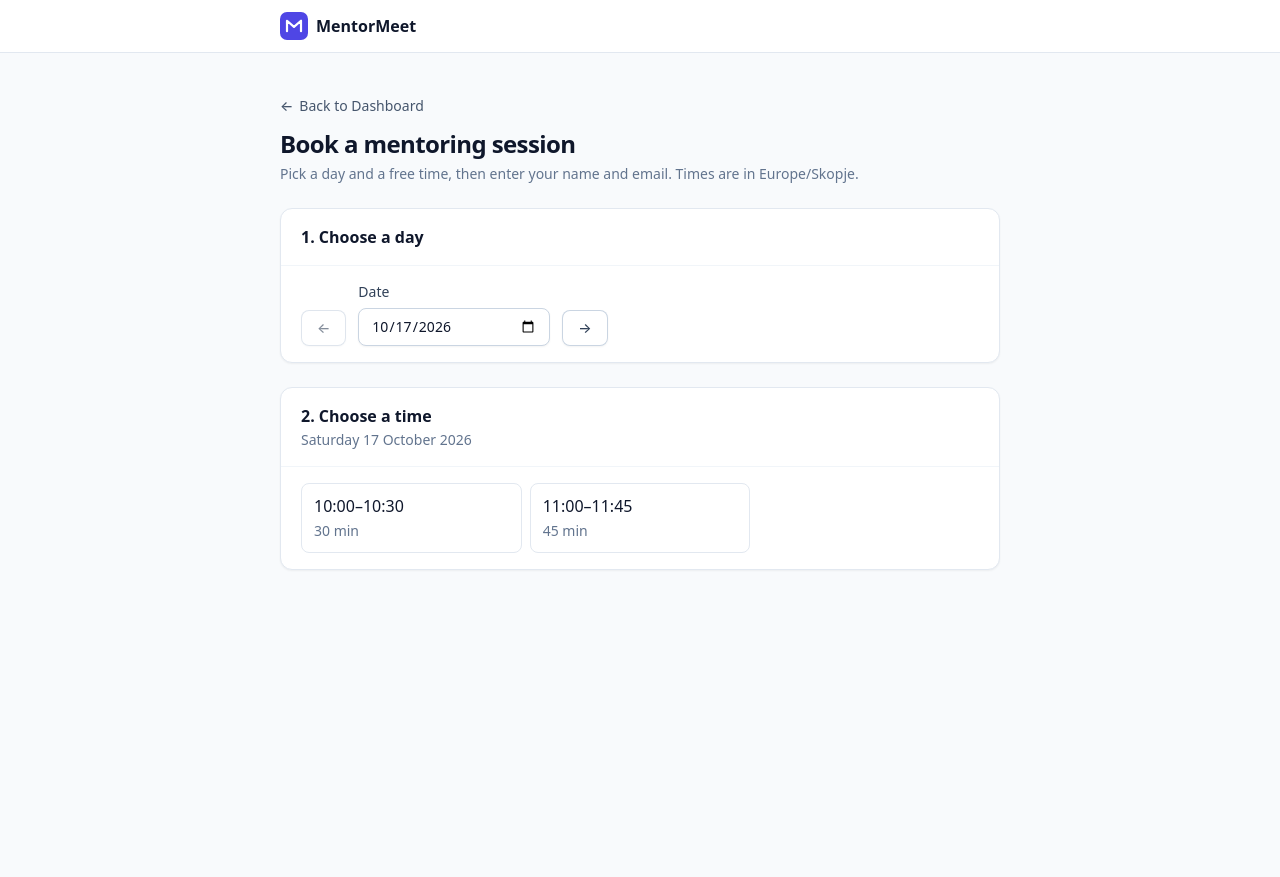
Test: BookingPage › on 409 Conflict refreshes the list, removes the taken slot and explains what happened
Click the button "10:00–10:30 30 min" at x=411, y=518, box [301,483,522,553]
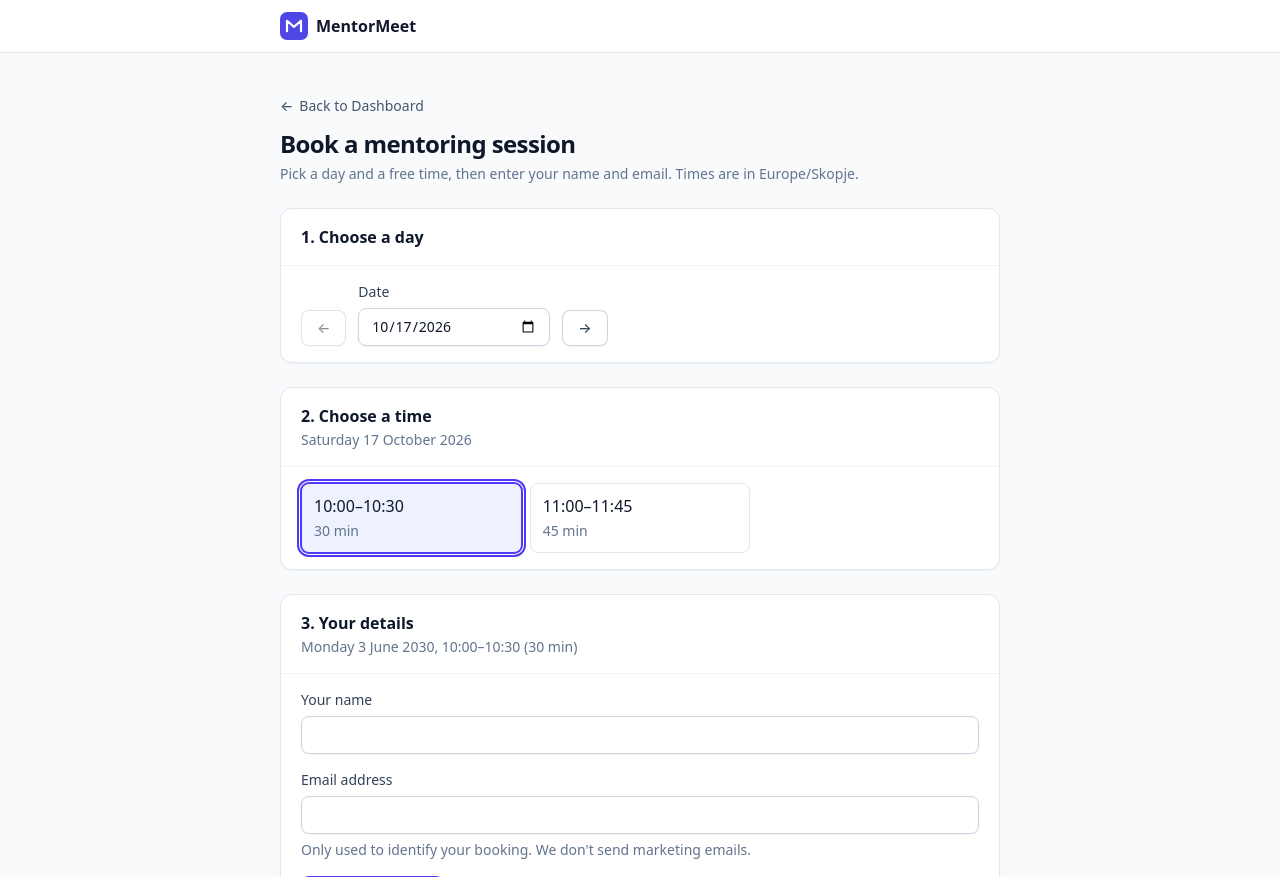
Type "Ana Petrova" into the field labelled "Your name" at x=640, y=735, box [301,716,979,754]
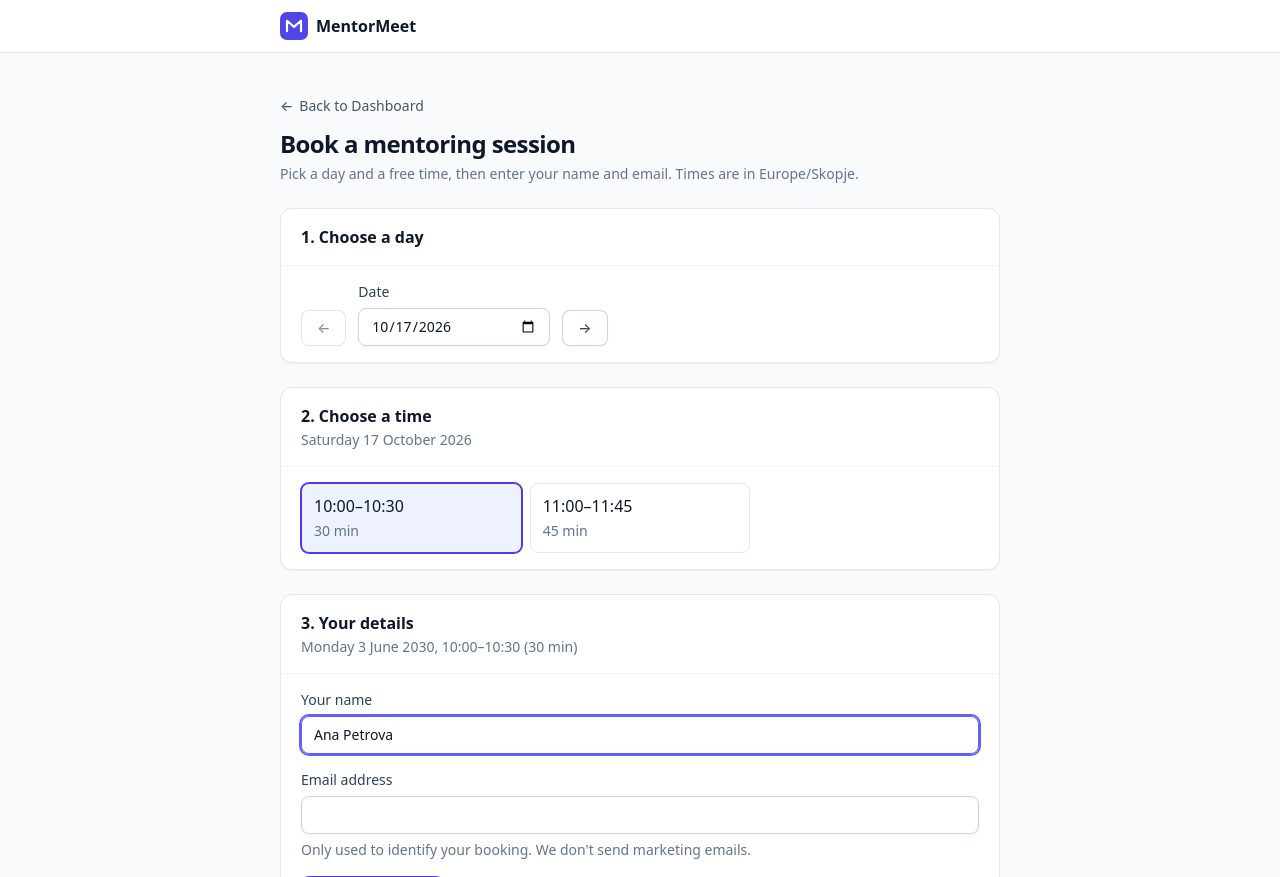
Type "ana@example.com" into the field labelled "Email address" at x=640, y=815, box [301,796,979,834]
(page scrolled)
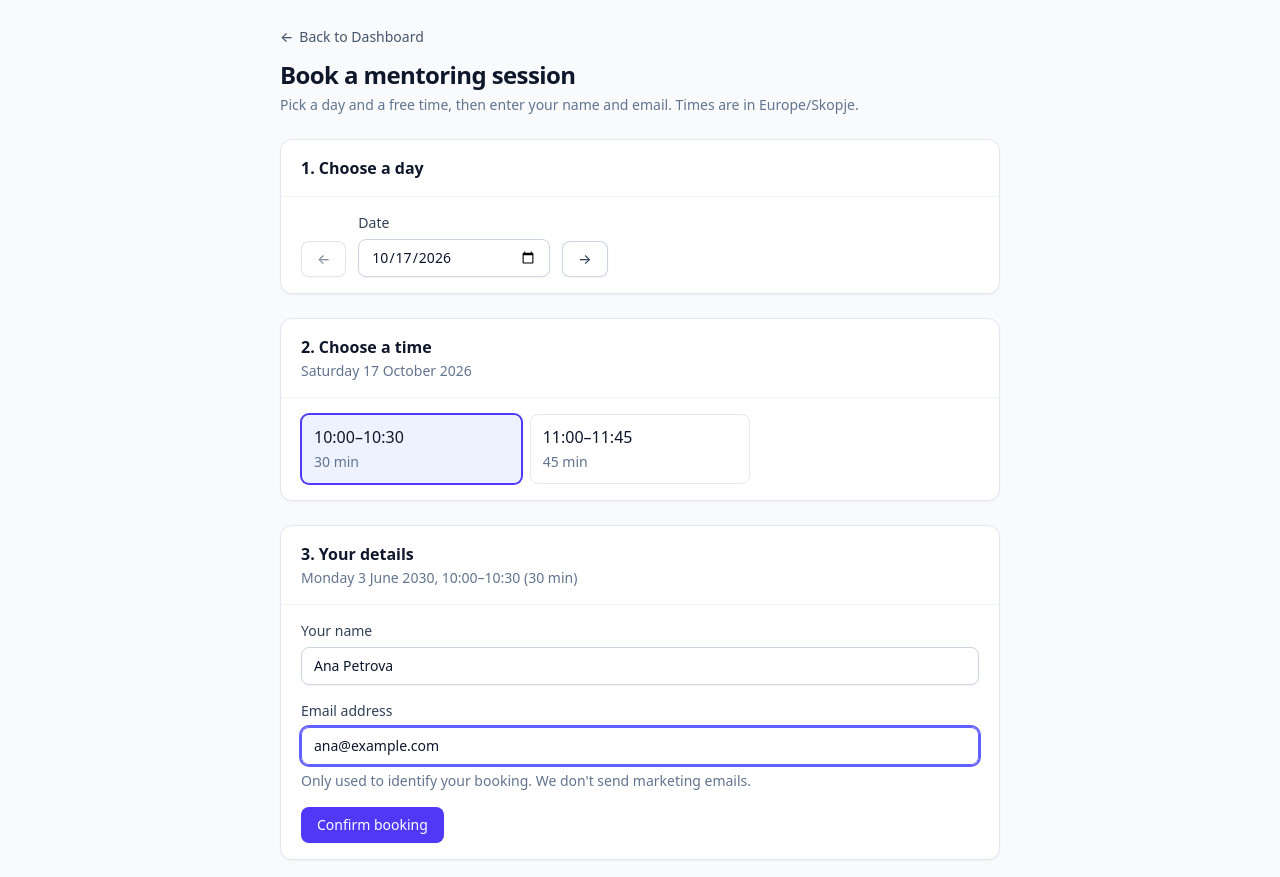
Click the button "Confirm booking" at x=372, y=825, box [301,807,444,843]
(page scrolled)
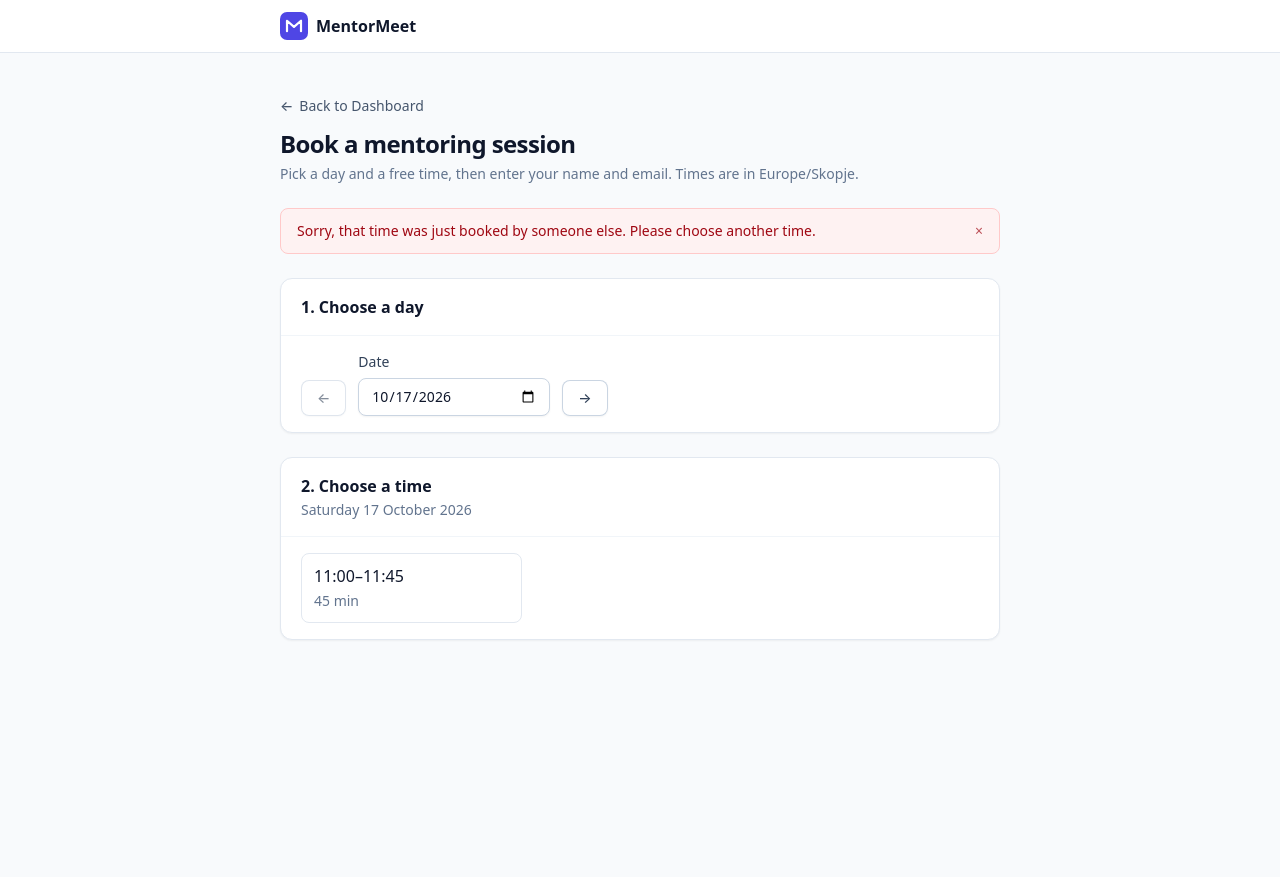
Expected: the text "11:00–11:45" is shown, [314,565,404,587]
Result: the text "Sorry, that time was just booked by someone else. Please choose another time." is shown at [297,221,816,240]
Result: the button "10:00–10:30" is gone
